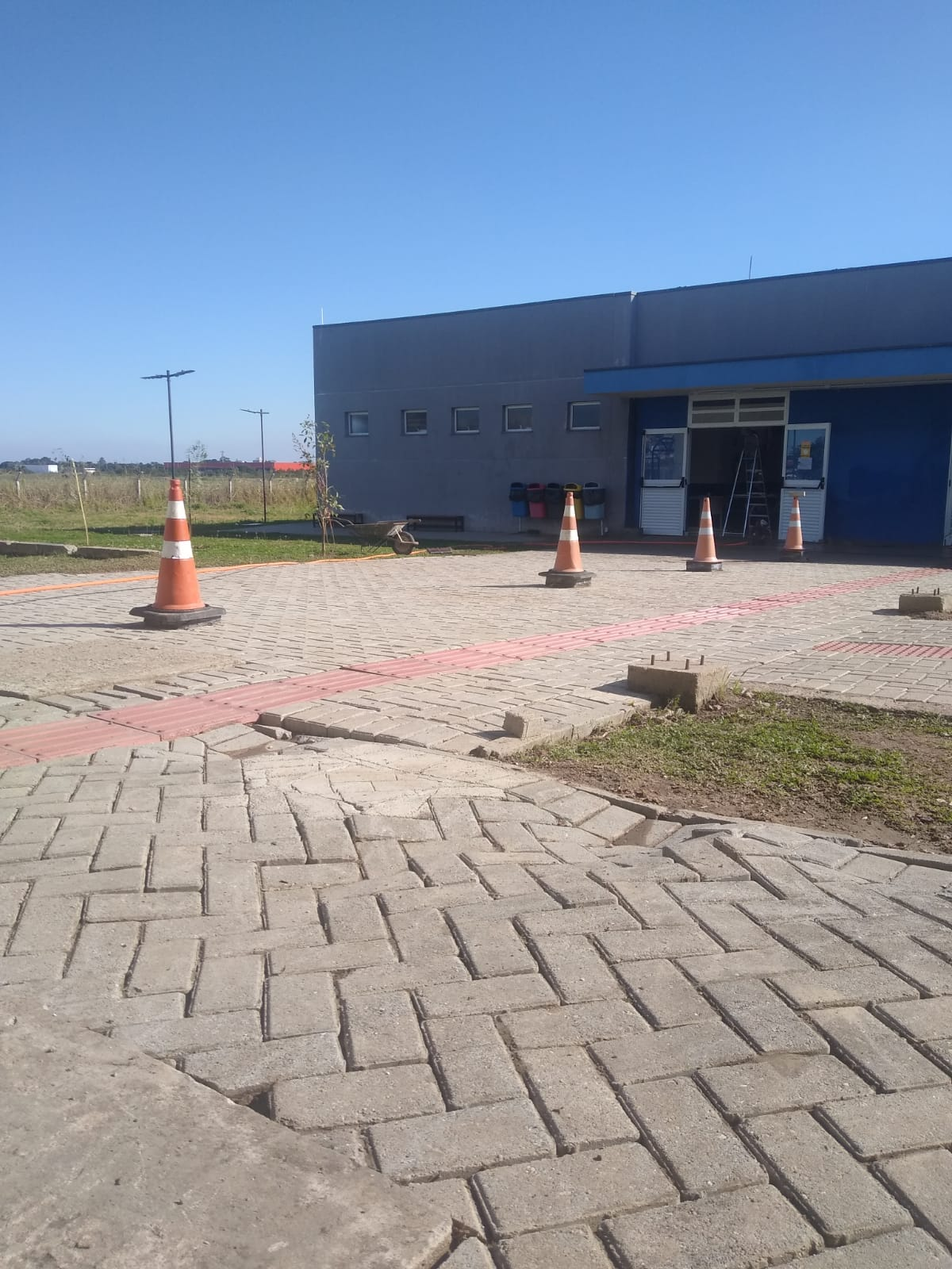traffic_cone: (129, 477, 224, 630), (539, 491, 595, 584), (685, 496, 723, 572), (778, 495, 806, 558)
